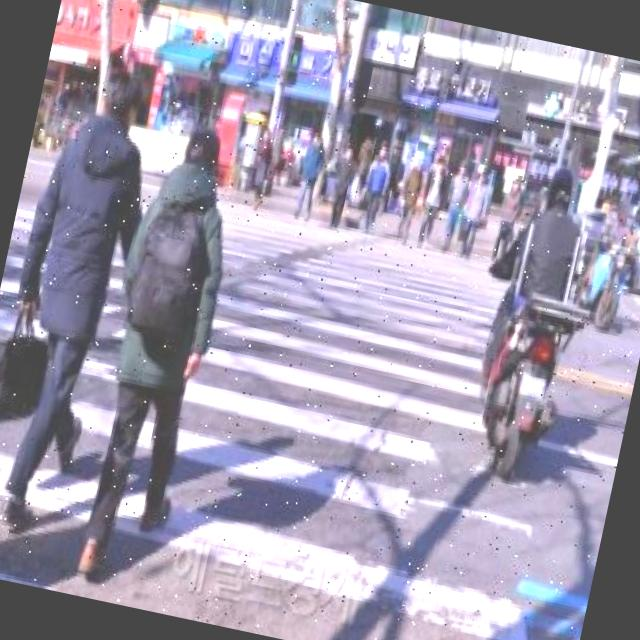Person: (68, 119, 254, 587), (0, 68, 173, 536), (354, 143, 395, 235), (488, 170, 528, 262), (291, 130, 331, 222), (457, 169, 494, 260), (392, 156, 428, 245), (438, 158, 472, 250), (324, 142, 360, 228), (416, 156, 451, 244)
